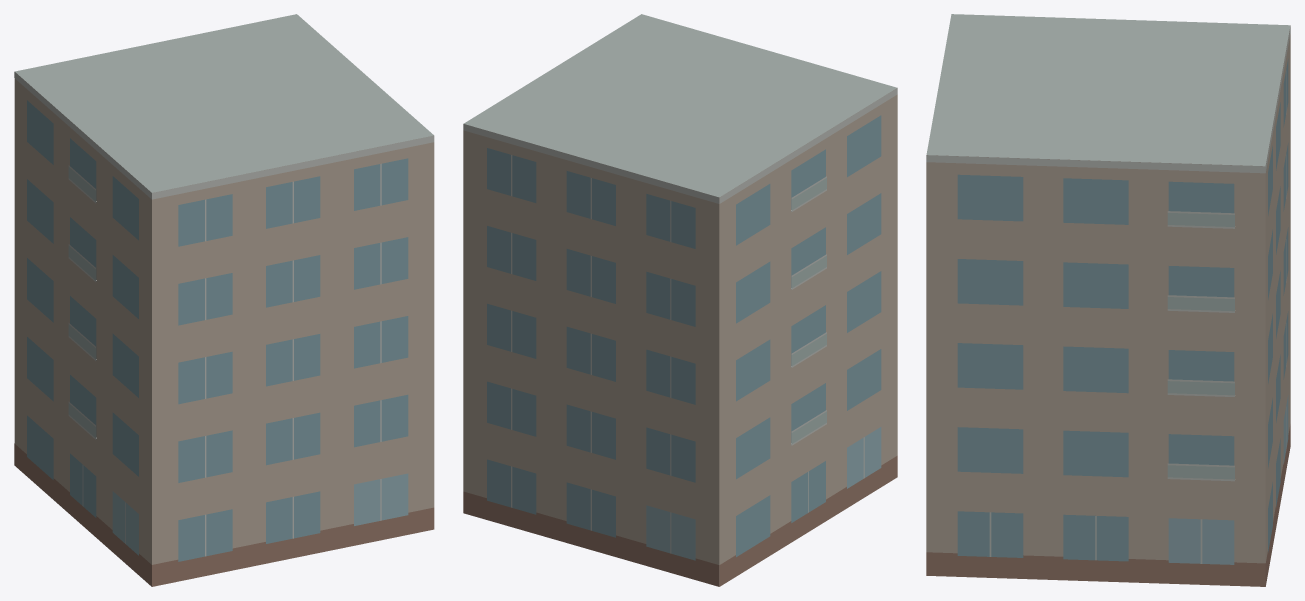
Rendered from survey-upis-32671871.glb.
3 renders of one model, left to right at view 1: azimuth 30°, elevation 25°; view 2: azimuth 150°, elevation 25°; view 3: azimuth 270°, elevation 25°, orthographic. The views are drawn at different scales.
Parts seen in each view (by area): view 1: survey-upis-32671871.tmp; view 2: survey-upis-32671871.tmp; view 3: survey-upis-32671871.tmp.
Boxes of the visible parts, x1=… form: survey-upis-32671871.tmp: x1=14, y1=14, x2=434, y2=586; survey-upis-32671871.tmp: x1=463, y1=14, x2=897, y2=586; survey-upis-32671871.tmp: x1=926, y1=14, x2=1290, y2=586.
Size of the model in its own units: 11.18 by 14.4 by 11.31.
